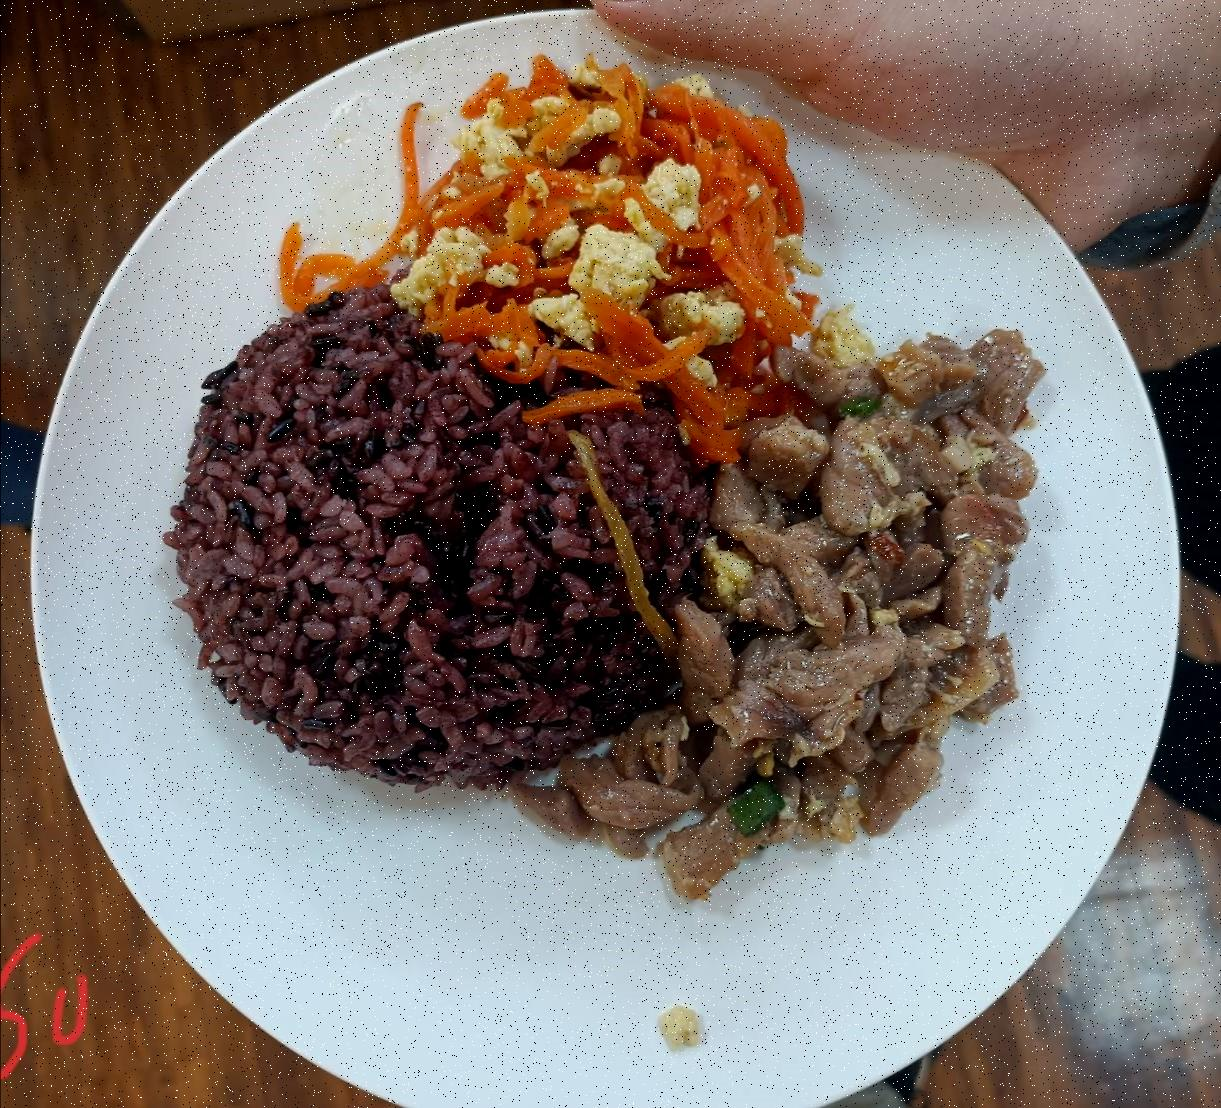plate: (31, 28, 1200, 1104)
pork with scrambled eggs: (678, 353, 1070, 878)
purple rice: (181, 328, 714, 776)
side dish: (373, 81, 834, 351)
